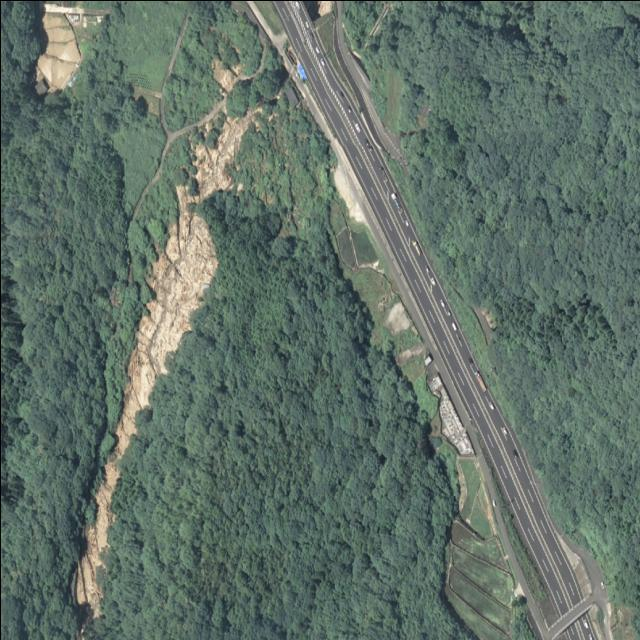landslide: (75, 106, 260, 616)
